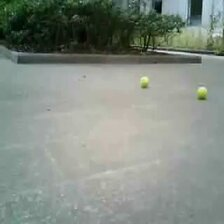tennis: (197, 86, 207, 99), (140, 77, 149, 88)
